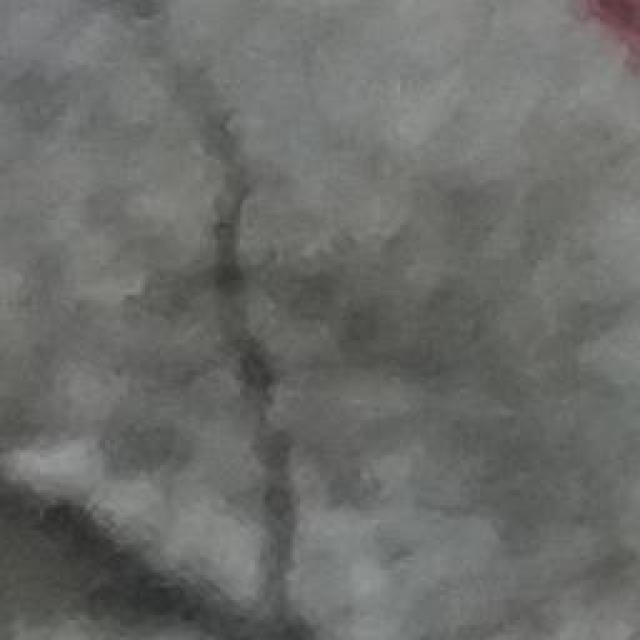Longitudinal: (123, 12, 327, 640)
